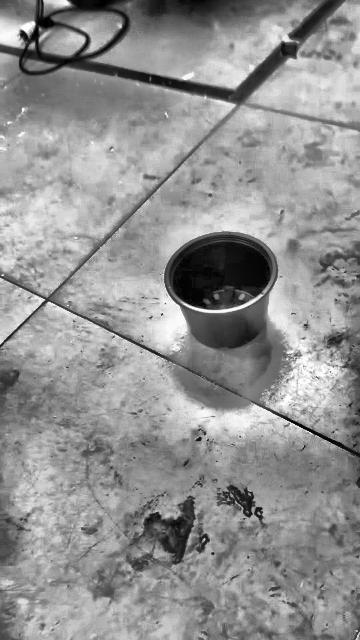pot: (163, 232, 278, 349)
